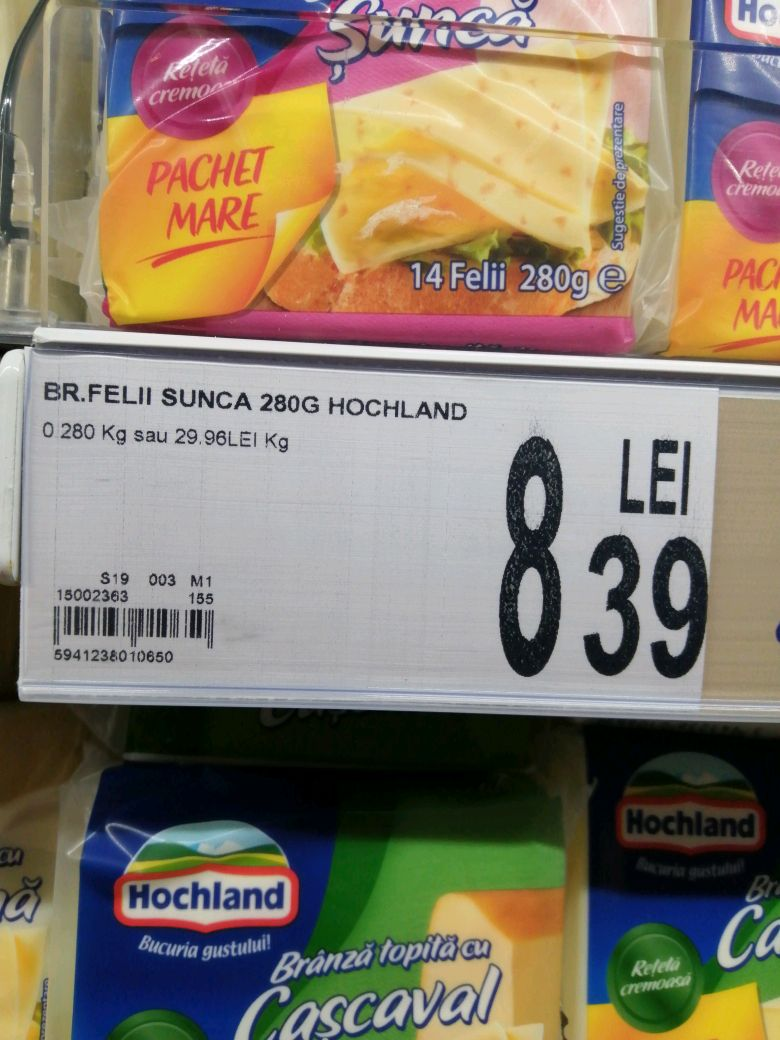price_bani: (576, 524, 713, 693)
price_lei: (491, 431, 567, 686)
price_tag: (7, 334, 739, 730)
product_id: (43, 646, 180, 666)
product_name: (25, 374, 482, 426)
